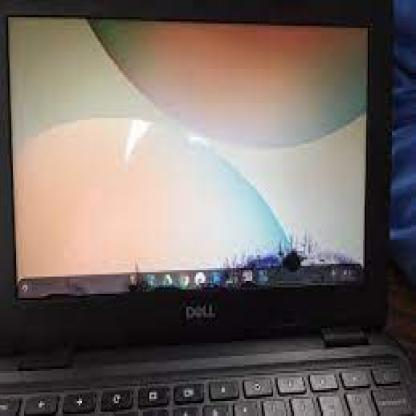crack: (51, 223, 363, 300)
spot: (276, 240, 305, 275)
